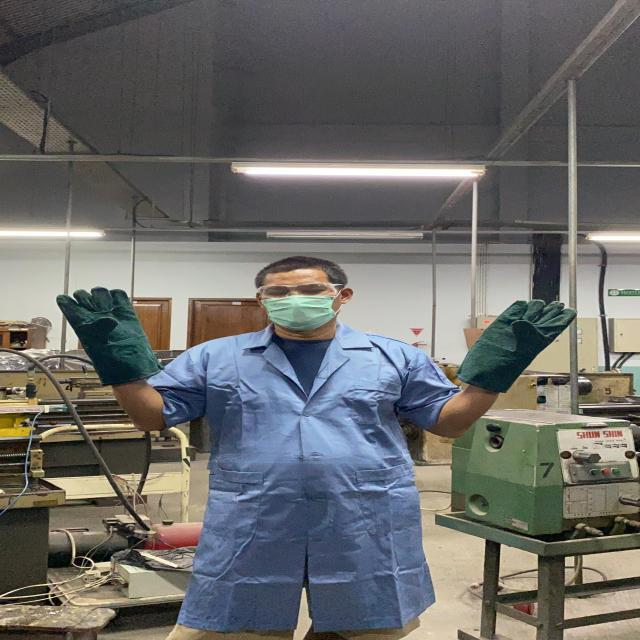glasses: (248, 278, 352, 300)
